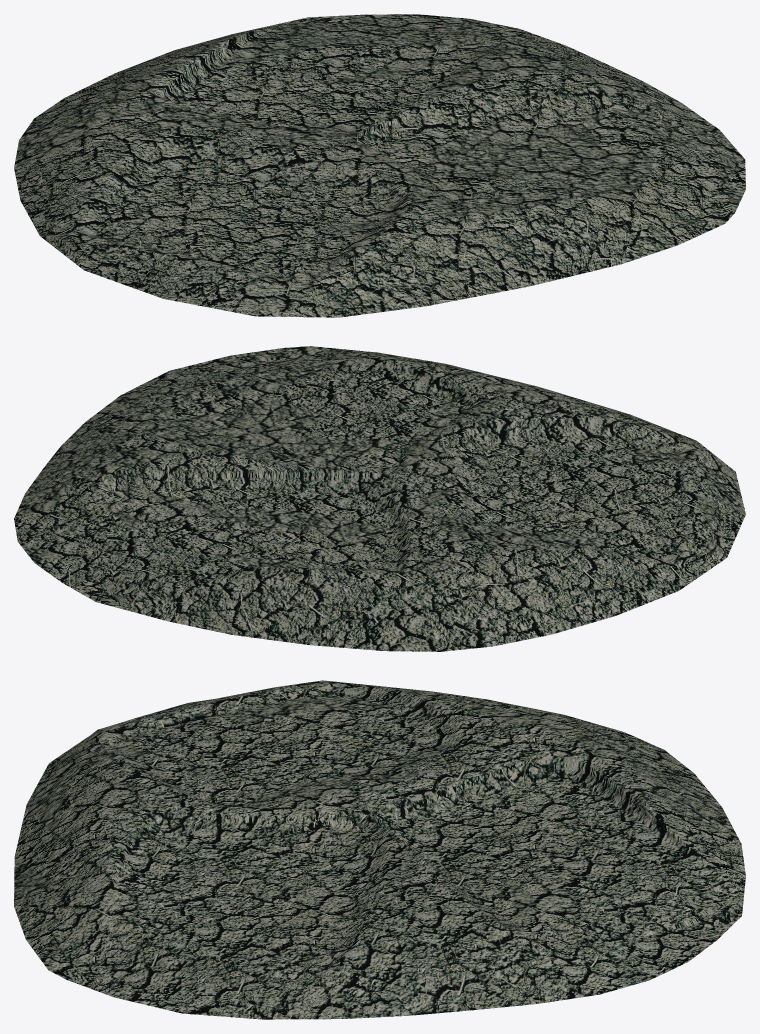
File: Obstacle_Dirt.fbx
3 renders of one model, top to bottom at view 1: azimuth 30°, elevation 25°; view 2: azimuth 150°, elevation 25°; view 3: azimuth 270°, elevation 25°, orthographic. The views are drawn at different scales.
Parts seen in each view (by area): view 1: pPlane2; view 2: pPlane2; view 3: pPlane2.
Part boxes in pixels (x1=…): pPlane2: x1=14, y1=14, x2=745, y2=317; pPlane2: x1=14, y1=346, x2=745, y2=651; pPlane2: x1=14, y1=680, x2=745, y2=1019.
Bounding box in the file's own units: 2.15 × 0.1182 × 2.
Materials: 1 (1 with a texture image).
